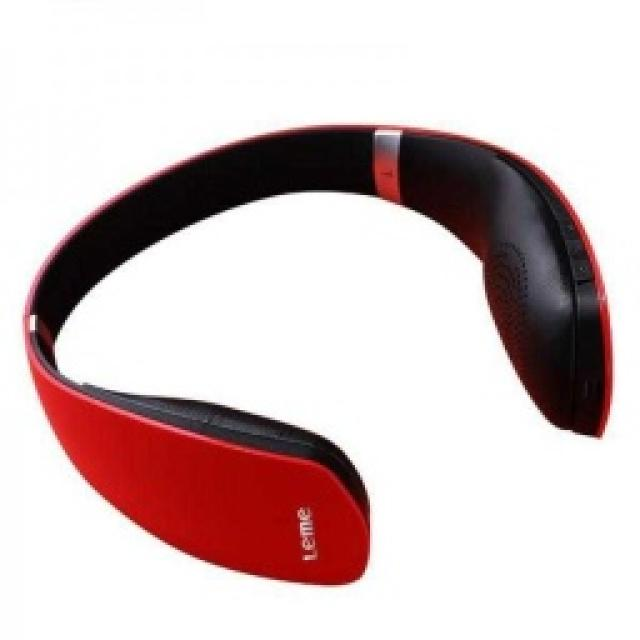headphones: (20, 120, 612, 585)
